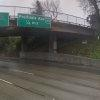Bridge: (5, 2, 92, 57)
